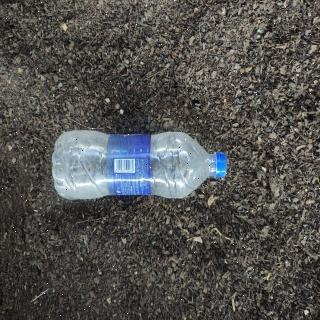Plastic-bottle: (52, 128, 230, 204)
